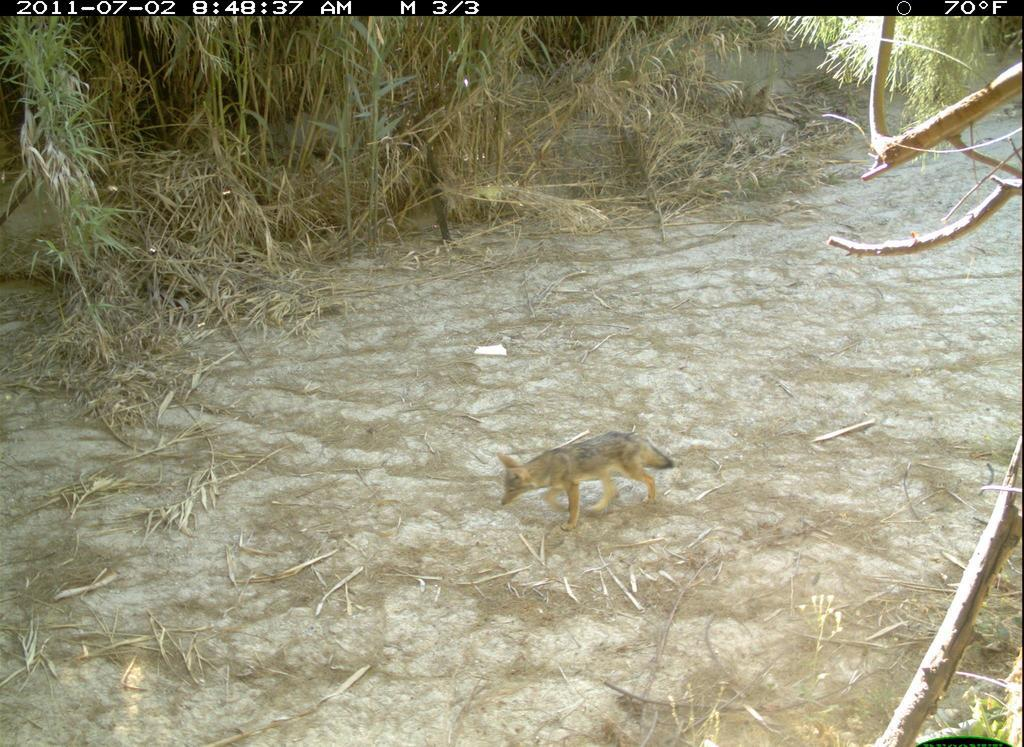coyote: (493, 425, 671, 534)
